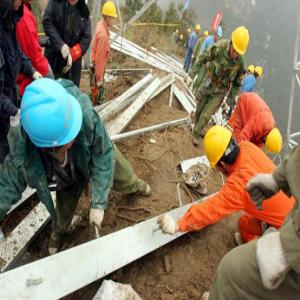blue: (19, 77, 83, 158), (215, 26, 224, 43)
yellow: (203, 124, 240, 177), (231, 27, 250, 61), (264, 126, 284, 156), (101, 2, 119, 29), (254, 66, 263, 81), (249, 64, 256, 77), (195, 25, 202, 36), (204, 31, 210, 40)
